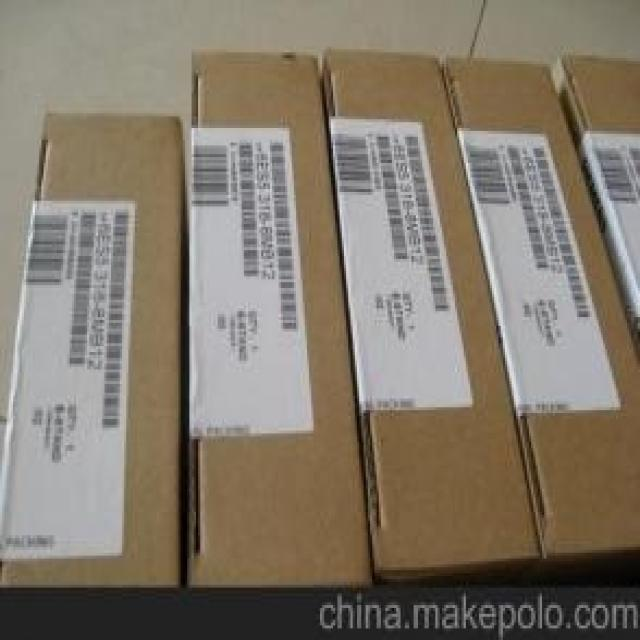box: (320, 51, 547, 585), (183, 47, 376, 587), (444, 55, 638, 571), (0, 116, 184, 589), (549, 52, 638, 358)
